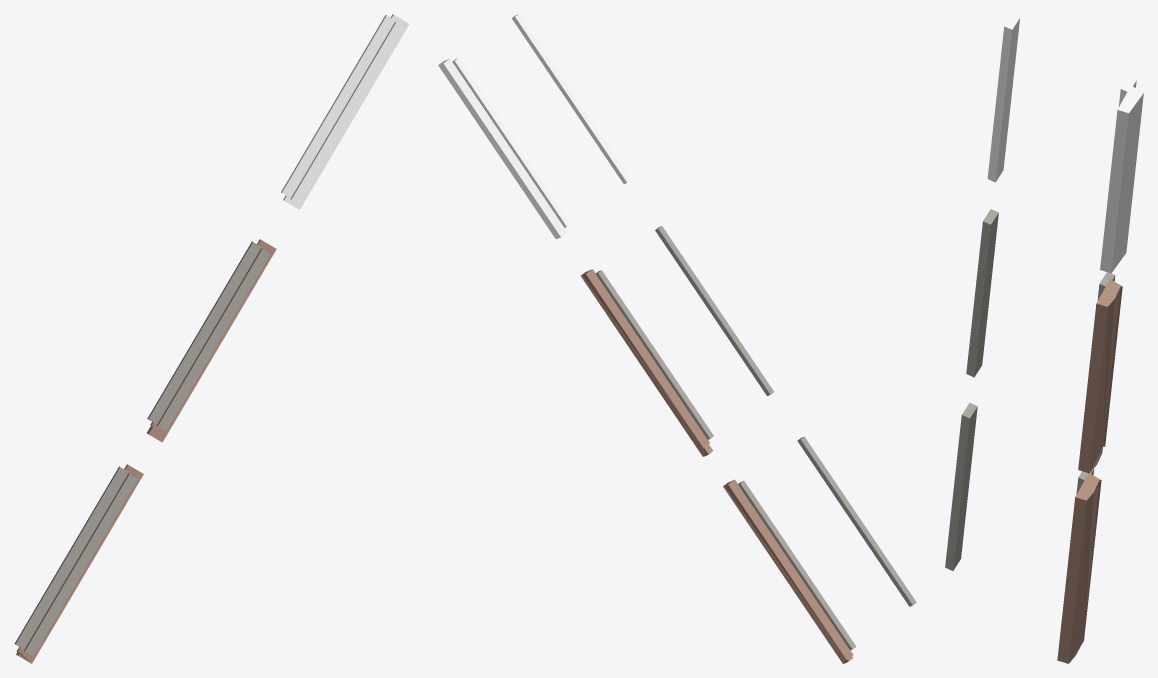
The picture shows the model from 3 angles, left to right: view 1: azimuth 30°, elevation 25°; view 2: azimuth 150°, elevation 25°; view 3: azimuth 270°, elevation 25°; orthographic projection. The views are drawn at different scales.
Visible parts, largest first — view 1: mesh; view 2: mesh; view 3: mesh.
Boxes of the visible parts, x1,y1,x2,y2 form: mesh: [14, 14, 409, 663]; mesh: [438, 14, 916, 663]; mesh: [945, 14, 1143, 663].
Size of the model in its own units: 5.78 by 7.19 by 1.4.
